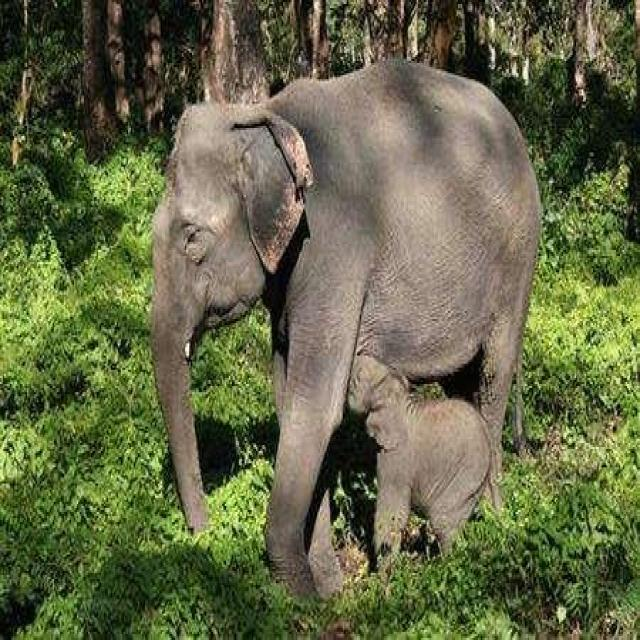Elephant: (142, 54, 550, 598), (335, 338, 505, 561)
